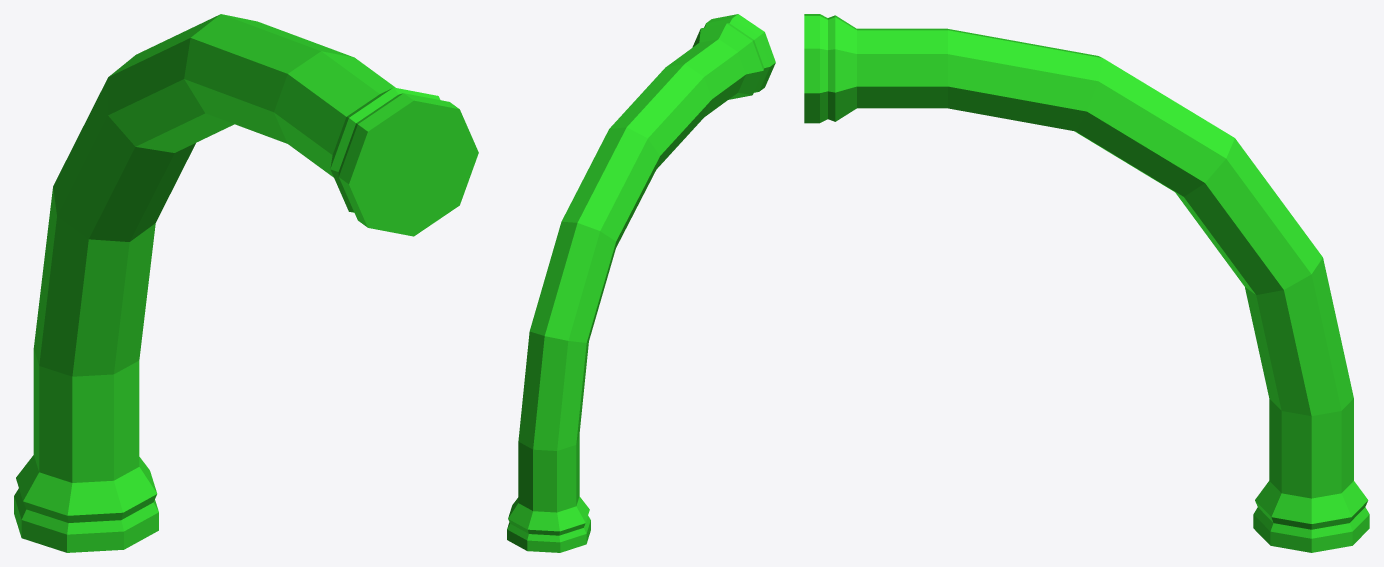
File: Pipe_02_Bend_C.fbx
The picture shows the model from 3 angles, left to right: view 1: azimuth 30°, elevation 25°; view 2: azimuth 150°, elevation 25°; view 3: azimuth 270°, elevation 25°; orthographic projection. The views are drawn at different scales.
Parts seen in each view (by area): view 1: Pipe_02_Bend_C; view 2: Pipe_02_Bend_C; view 3: Pipe_02_Bend_C.
Part boxes in pixels (x1,y1,x2,y2): Pipe_02_Bend_C: (14, 14, 478, 552); Pipe_02_Bend_C: (507, 14, 775, 552); Pipe_02_Bend_C: (804, 14, 1369, 552).
Bounding box in the file's own units: 10.13 × 49.25 × 49.25.
